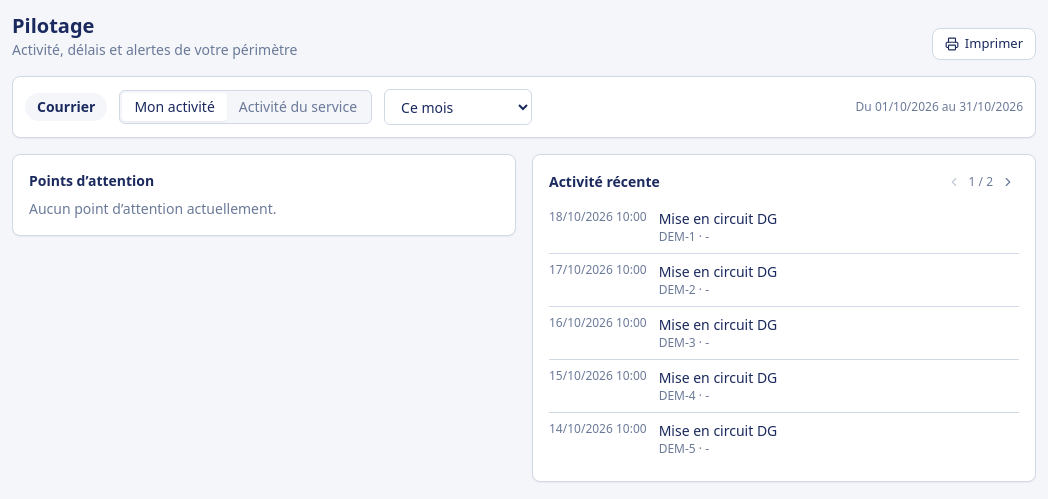
Test: <PilotagePage> recent activity pages (ROLE-ANALYTICS-1G) › changing scope or period starts again at page 1
Expected: the text "1 / 2" is shown, [968,174,993,190]
Click the button named "Page suivante": point(1008, 182) [997,171,1019,193]
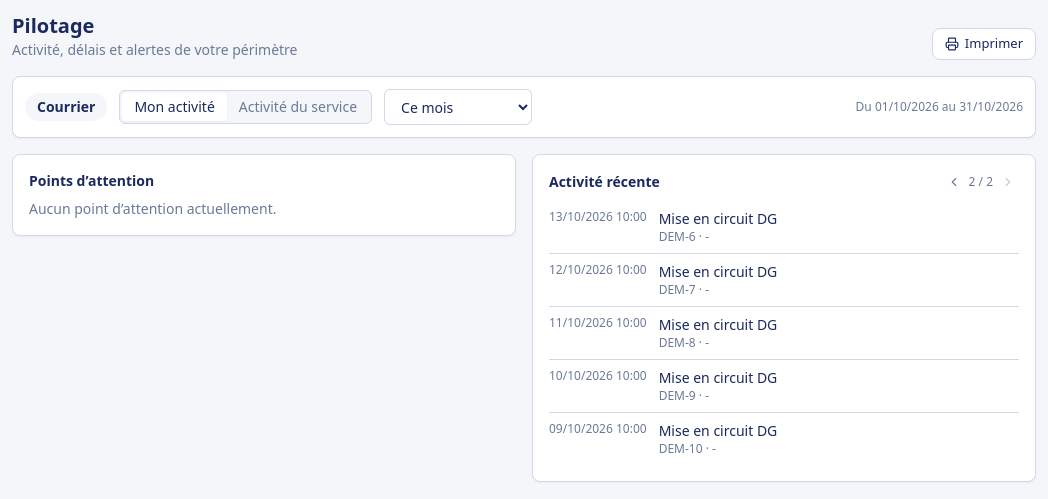
Expected: the text "2 / 2" is shown, [968,174,993,190]
Click the button "Activité du service": point(298, 107) [227,93,369,121]
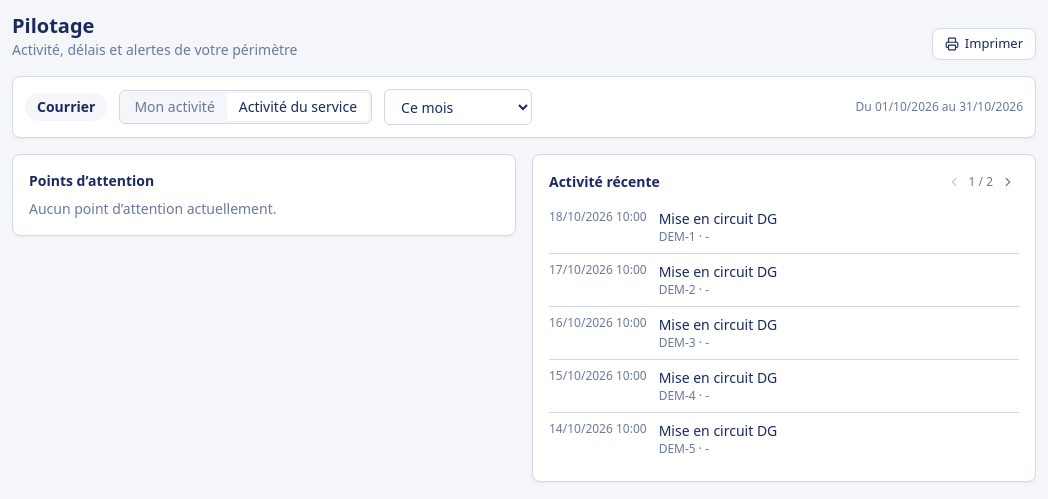
Expected: the text "1 / 2" is shown, [968,174,993,190]
Click the button named "Page suivante": point(1008, 182) [997,171,1019,193]
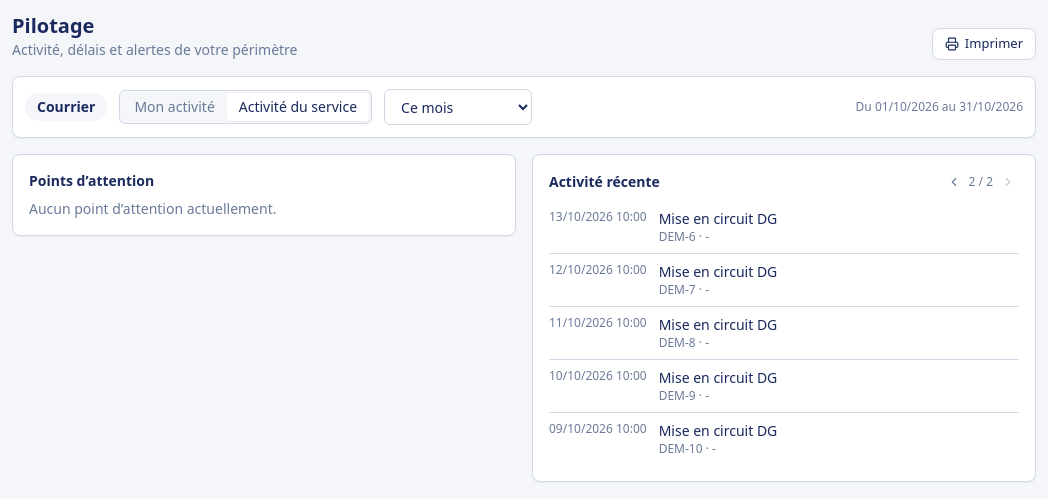
Select "Aujourd’hui" in the dropdown named "Période": point(458, 107) [384,89,532,125]
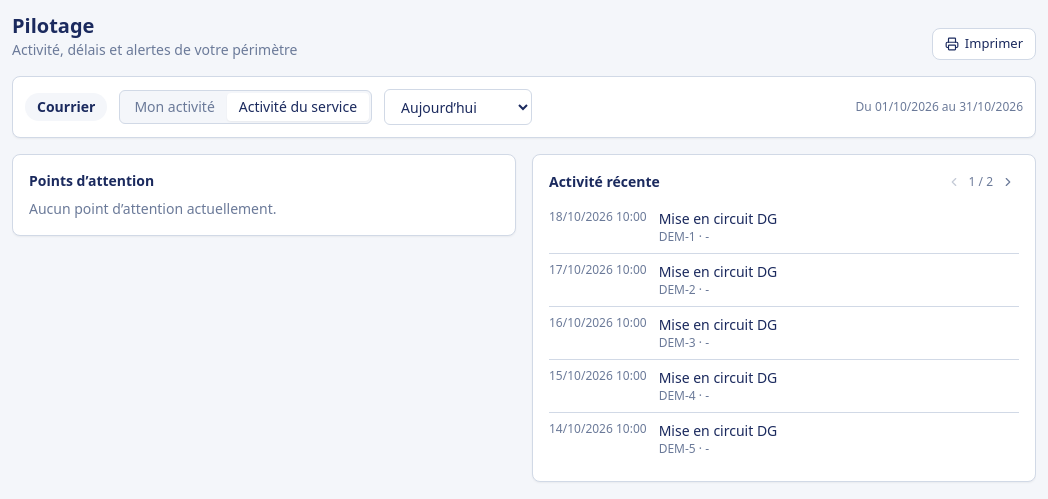
Expected: the text "1 / 2" is shown, [968,174,993,190]
